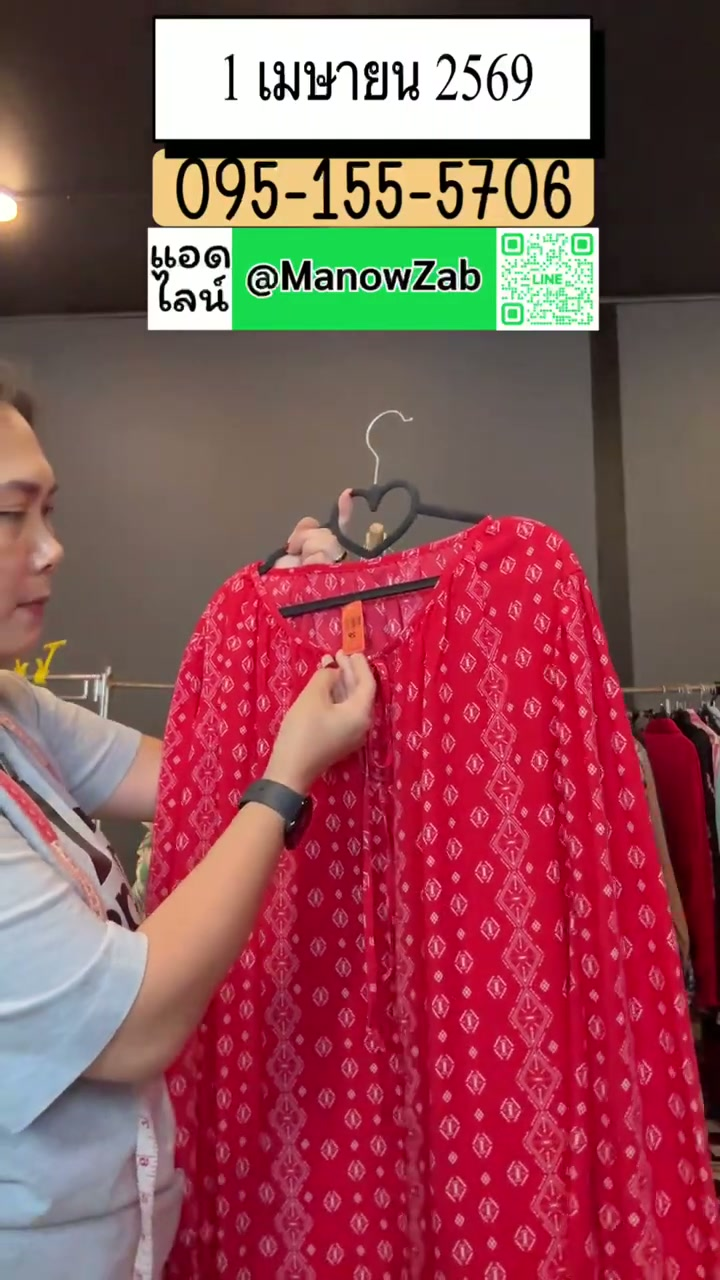display_shirt: (148, 518, 719, 1279)
